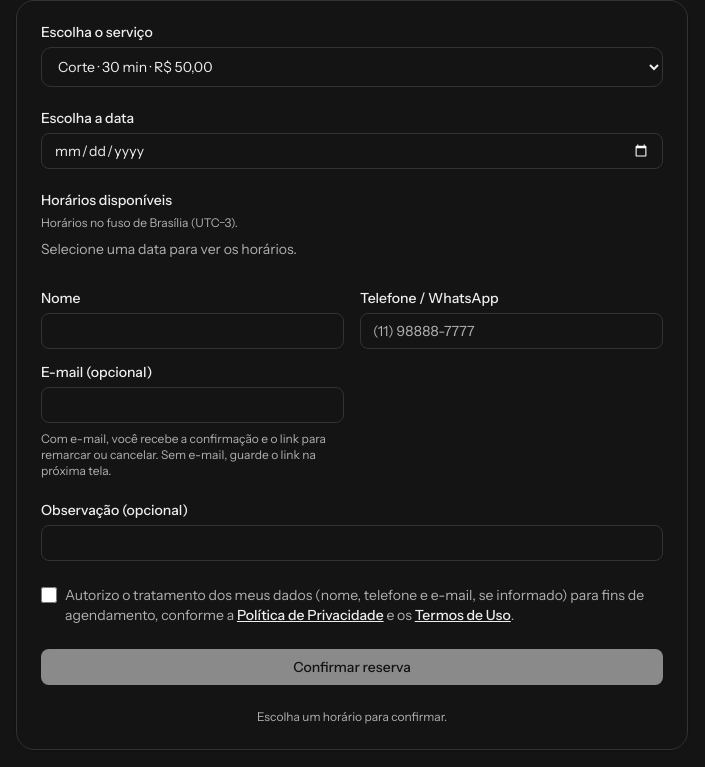
Test: BookingWidget › says once, in a live region, that the date has no slots
Type "2026-10-20" into the date field labelled "Escolha a data" at (352, 151), box x1=41 y1=133 x2=663 y2=169
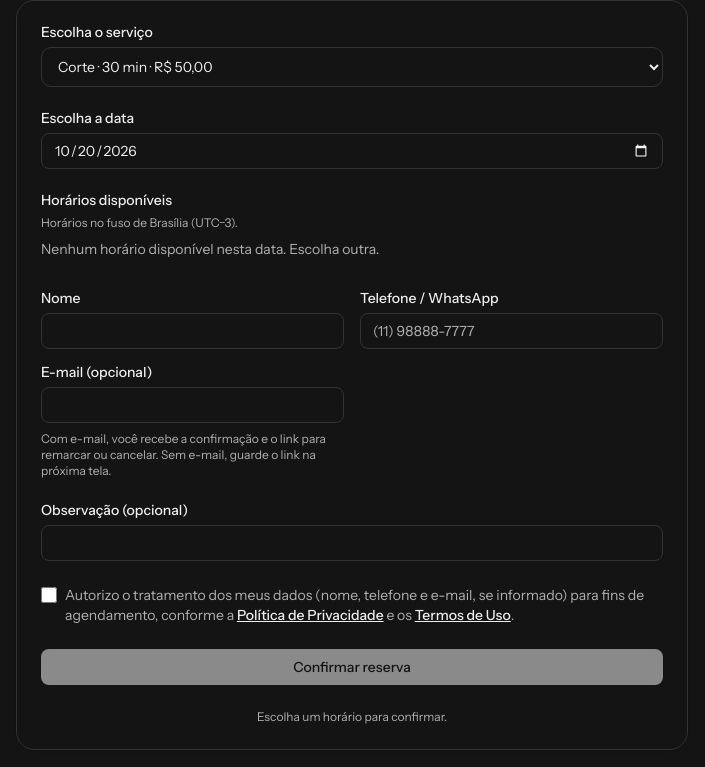
Expected: the text "Nenhum horário disponível nesta data. Escolha outra." is shown once, x1=41 y1=240 x2=379 y2=258
Result: the text "Nenhum horário disponível nesta data. Escolha outra." is shown at x1=41 y1=240 x2=379 y2=258
